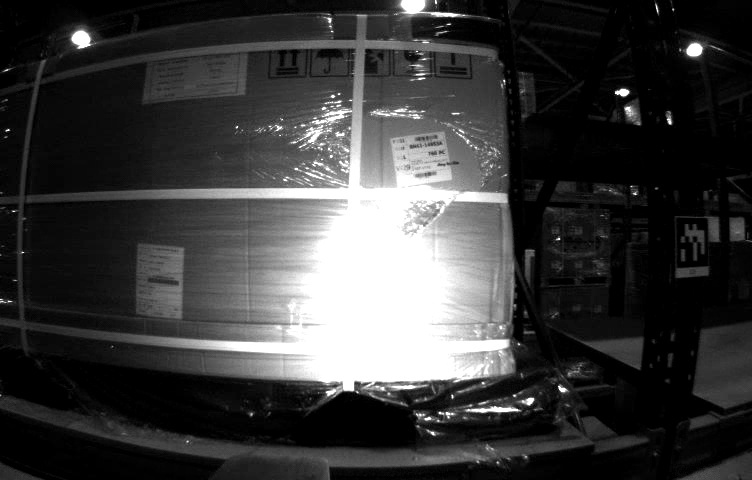True Barcode: (394, 127, 449, 189)
